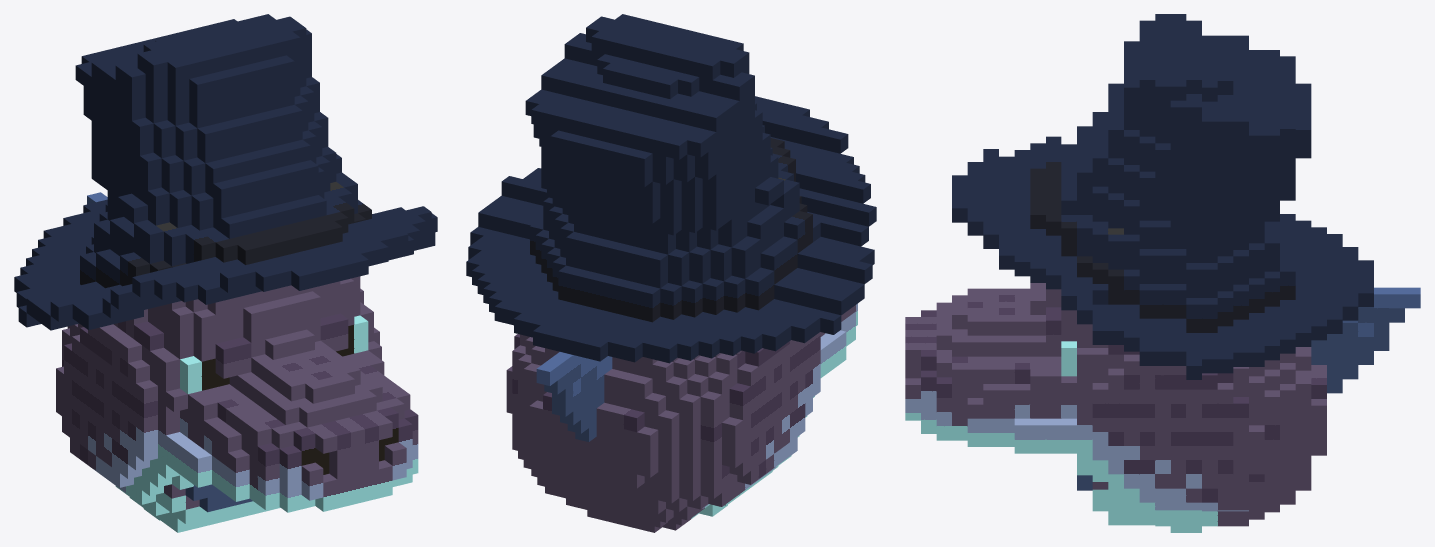
The model's file is top hat_vr goggles.gltf.
3 views of the same model, side by side, from view 1: azimuth 30°, elevation 25°; view 2: azimuth 150°, elevation 25°; view 3: azimuth 270°, elevation 25° (orthographic). The views are drawn at different scales.
Parts seen in each view (by area): view 1: C55_H_TopH_VRGg-Mesh; view 2: C55_H_TopH_VRGg-Mesh; view 3: C55_H_TopH_VRGg-Mesh.
Boxes of the visible parts, bbox=[...] form: C55_H_TopH_VRGg-Mesh: bbox=[14, 14, 437, 532]; C55_H_TopH_VRGg-Mesh: bbox=[466, 14, 876, 532]; C55_H_TopH_VRGg-Mesh: bbox=[905, 14, 1420, 532].
Bounding box in the file's own units: 27 × 32 × 33.
1 material, 1 textured.
